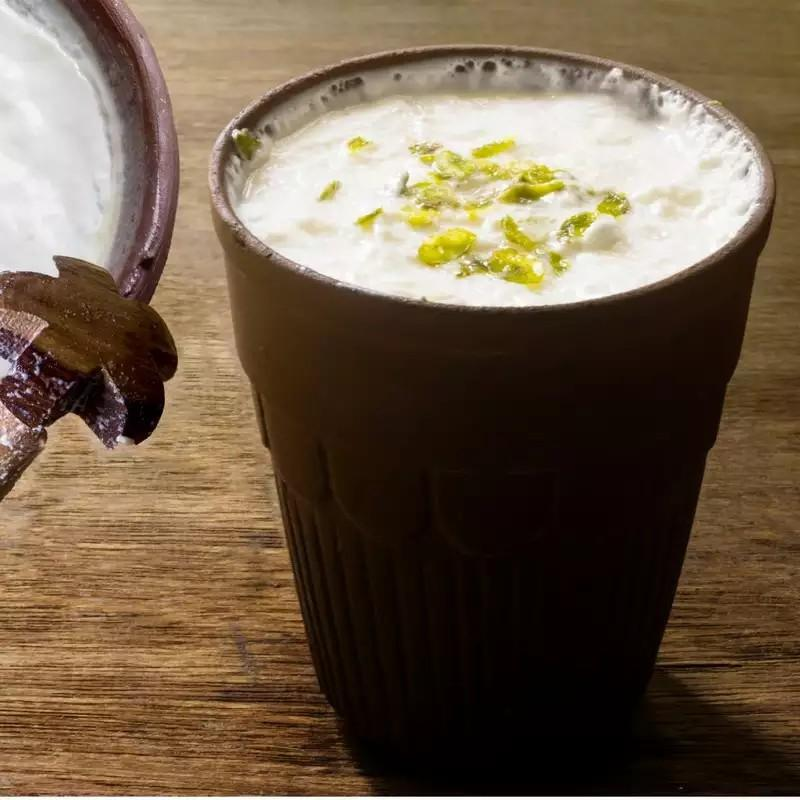Lassi: (222, 62, 764, 309)
